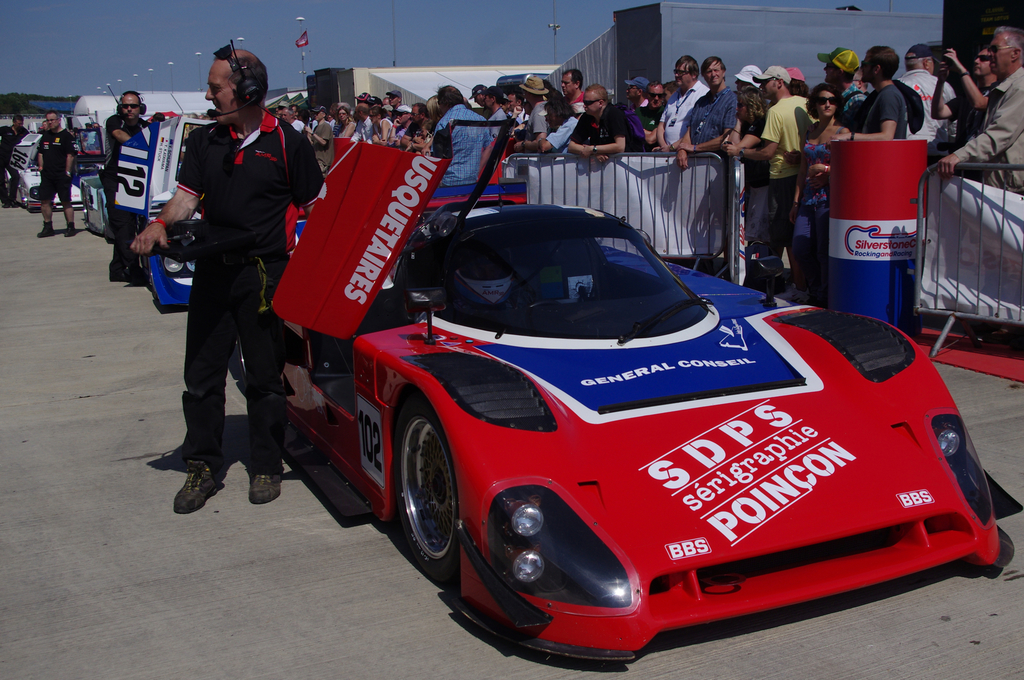Car: (248, 159, 1000, 645), (3, 106, 526, 310)
